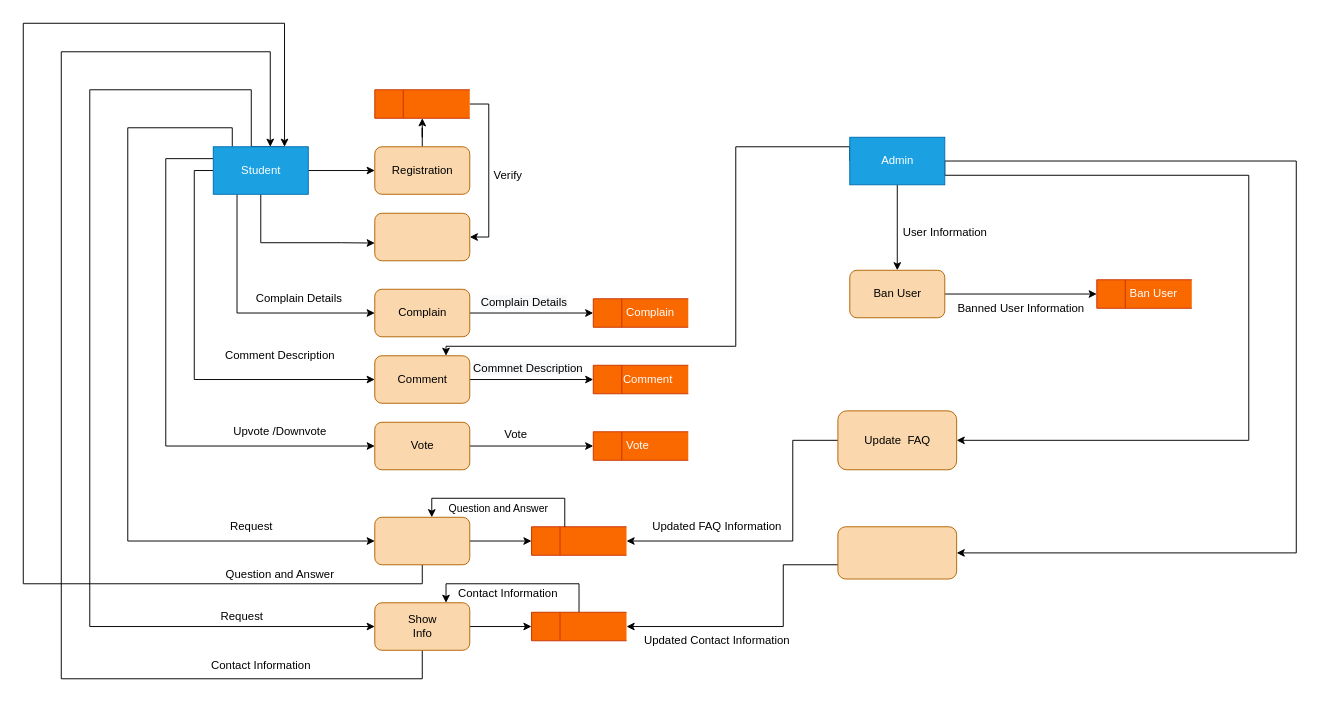
Image size: 1321x703. Some labels were removed from this diagram. The centre of each missing label's shape, as x and y in pixels:
FAQ: [579,540]
Info: [579,626]
Login: [422,236]
Show Faq: [422,540]
Update Info: [897,552]
User: [422,103]
